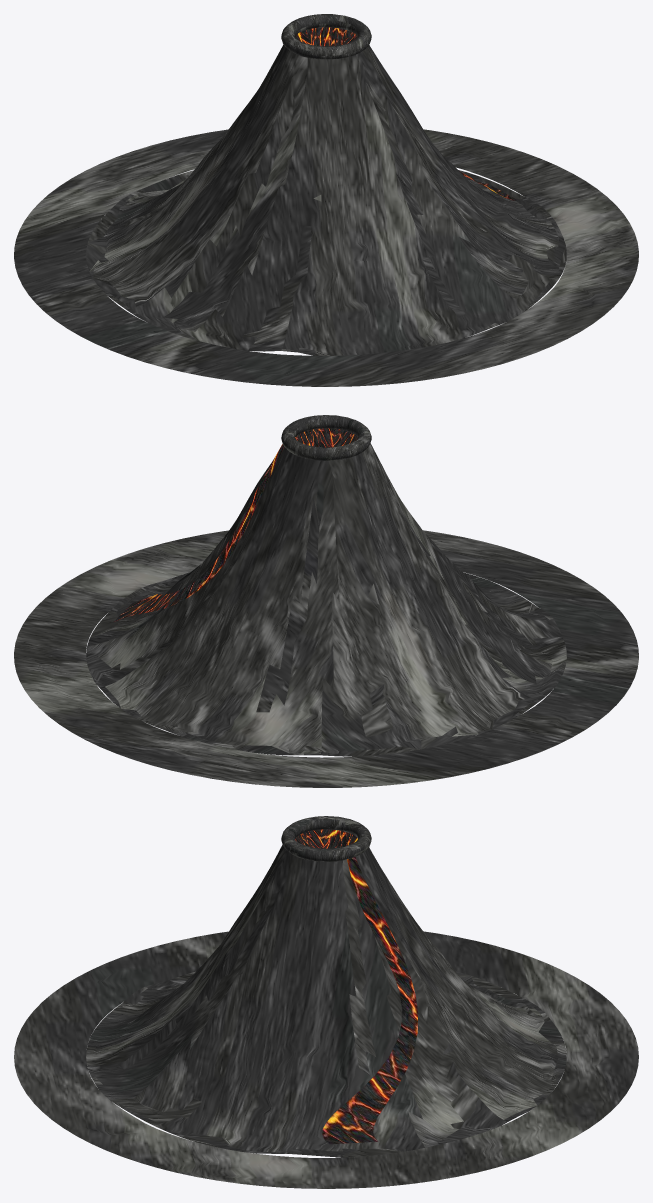
File: volcano_stratovolcano_mid.glb
The picture shows the model from 3 angles, top to bottom: view 1: azimuth 30°, elevation 25°; view 2: azimuth 150°, elevation 25°; view 3: azimuth 270°, elevation 25°; orthographic projection.
Visible parts, largest first — view 1: Volcano_Cone_MID, Volcano_BaseTerrain_MID, Volcano_CraterRim_MID, Volcano_CraterInner_MID; view 2: Volcano_Cone_MID, Volcano_BaseTerrain_MID, Volcano_CraterRim_MID, Volcano_LavaFlow_01_MID, Volcano_CraterInner_MID; view 3: Volcano_Cone_MID, Volcano_BaseTerrain_MID, Volcano_LavaFlow_01_MID, Volcano_CraterRim_MID, Volcano_CraterInner_MID.
Part boxes in pixels (box(x1,y1,x2,y2)): Volcano_Cone_MID: box(86, 44, 566, 355); Volcano_BaseTerrain_MID: box(14, 129, 638, 386); Volcano_CraterRim_MID: box(281, 14, 371, 59); Volcano_CraterInner_MID: box(295, 27, 357, 46); Volcano_Cone_MID: box(86, 443, 566, 756); Volcano_BaseTerrain_MID: box(14, 530, 638, 787); Volcano_CraterRim_MID: box(281, 415, 371, 460); Volcano_LavaFlow_01_MID: box(114, 444, 284, 621); Volcano_CraterInner_MID: box(295, 428, 357, 447); Volcano_Cone_MID: box(86, 845, 566, 1157); Volcano_BaseTerrain_MID: box(14, 931, 638, 1188); Volcano_LavaFlow_01_MID: box(322, 857, 418, 1144); Volcano_CraterRim_MID: box(281, 816, 371, 861); Volcano_CraterInner_MID: box(295, 829, 357, 848).
Bounding box in the file's own units: 2.6 × 1.03 × 2.6.
Materials: 4 (4 with a texture image).
